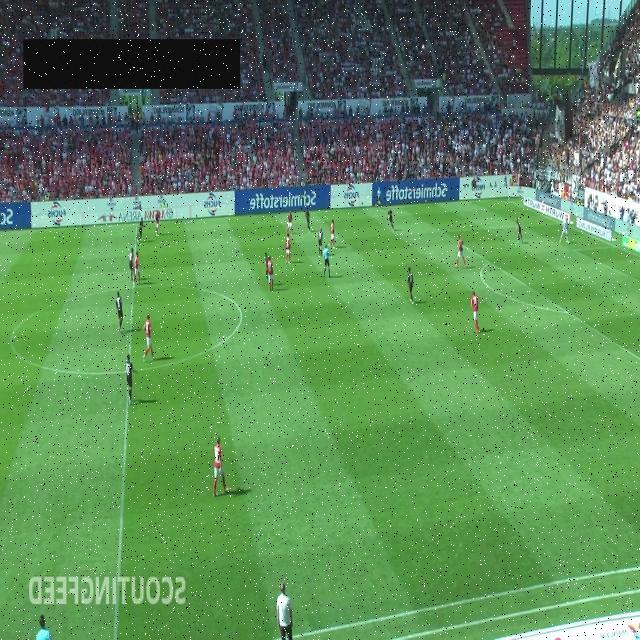Ball: (422, 44, 424, 50)
Corner: (506, 172, 511, 202)
GoalKeeper: (559, 214, 571, 243)
Referee: (36, 614, 50, 640), (323, 244, 331, 278), (376, 185, 382, 209)
TEAM 1: (213, 436, 229, 498), (142, 313, 156, 361), (470, 289, 480, 333), (454, 235, 466, 269), (266, 254, 274, 292), (134, 250, 142, 285), (328, 218, 336, 248), (286, 210, 294, 236), (285, 233, 291, 264), (154, 209, 160, 236)
TEAM 2: (125, 352, 138, 406), (115, 290, 124, 332), (407, 266, 414, 304), (135, 219, 145, 243), (515, 216, 523, 244), (129, 248, 135, 282), (318, 226, 324, 256), (264, 252, 270, 278), (388, 206, 394, 230), (306, 209, 310, 231)
